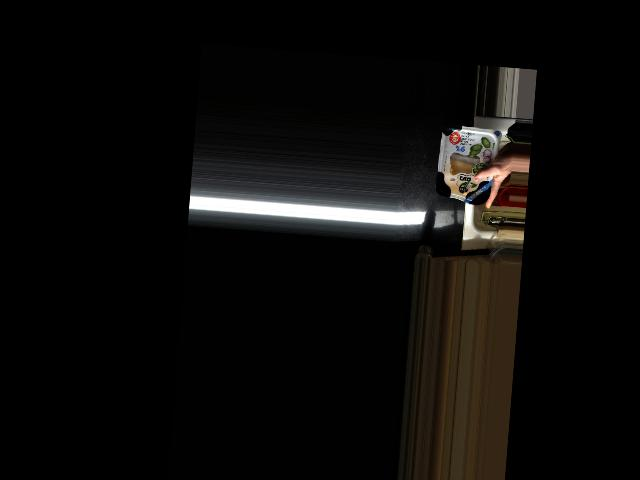cheese: (435, 126, 501, 206)
